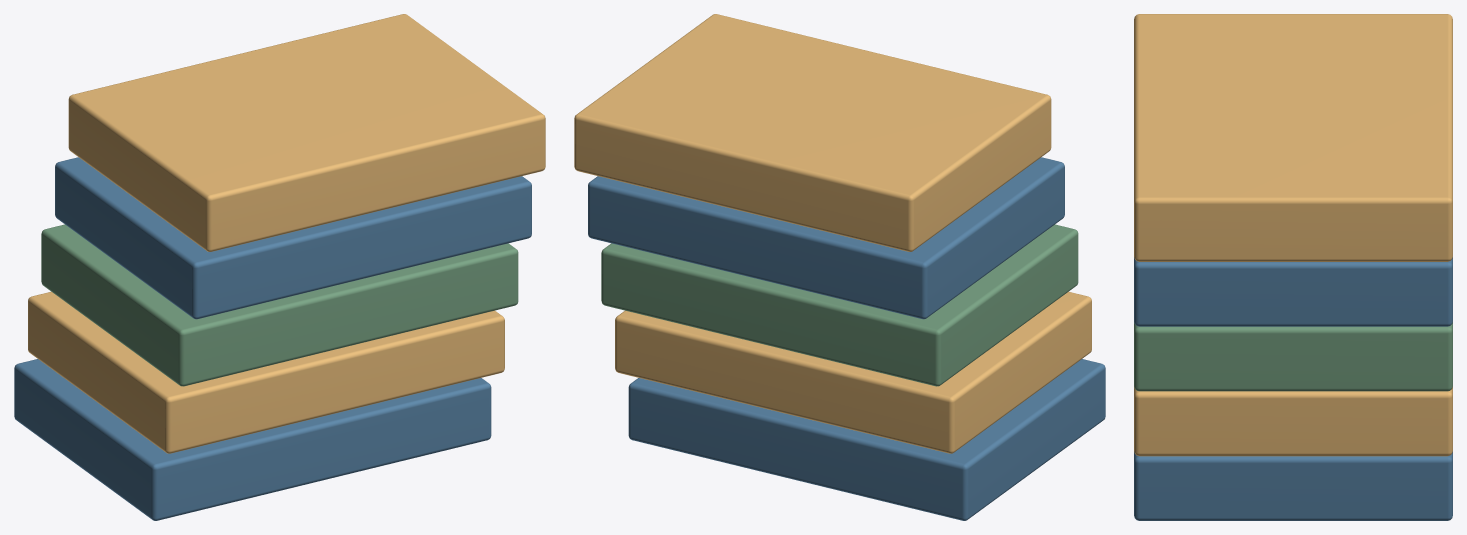
Rendered from atelier-stacked-books.glb.
3 views of the same model, side by side, from view 1: azimuth 30°, elevation 25°; view 2: azimuth 150°, elevation 25°; view 3: azimuth 270°, elevation 25° (orthographic). The views are drawn at different scales.
Parts seen in each view (by area): view 1: artGold.014, artBlue.015, artGreen.016; view 2: artGold.014, artBlue.015, artGreen.016; view 3: artGold.014, artBlue.015, artGreen.016.
Boxes of the visible parts, x1,y1,x2,y2 form: artGold.014: [28, 14, 545, 453]; artBlue.015: [14, 157, 531, 520]; artGreen.016: [41, 224, 518, 386]; artGold.014: [574, 14, 1091, 453]; artBlue.015: [588, 157, 1105, 520]; artGreen.016: [601, 224, 1078, 386]; artGold.014: [1134, 14, 1452, 456]; artBlue.015: [1134, 257, 1452, 520]; artGreen.016: [1134, 322, 1452, 391].
Bounding box in the file's own units: 0.29 × 0.22 × 0.18.
